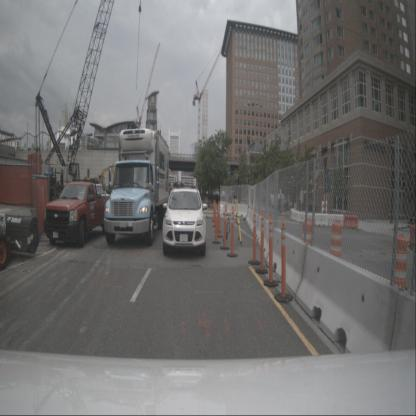barrier: (296, 244, 398, 377), (266, 227, 307, 299), (262, 218, 274, 263), (256, 215, 265, 249), (328, 213, 344, 228), (234, 204, 249, 220), (250, 210, 259, 236), (344, 214, 359, 229), (315, 212, 329, 228), (305, 212, 315, 228), (246, 208, 252, 224), (298, 212, 306, 223), (293, 211, 300, 222), (289, 208, 294, 222)
cone: (274, 214, 294, 303), (263, 211, 279, 288), (391, 233, 411, 291), (255, 210, 269, 274), (248, 205, 261, 266), (329, 216, 343, 264), (300, 216, 313, 260), (227, 206, 238, 258), (219, 203, 230, 251), (211, 204, 221, 244), (214, 200, 223, 239), (212, 196, 218, 223)
